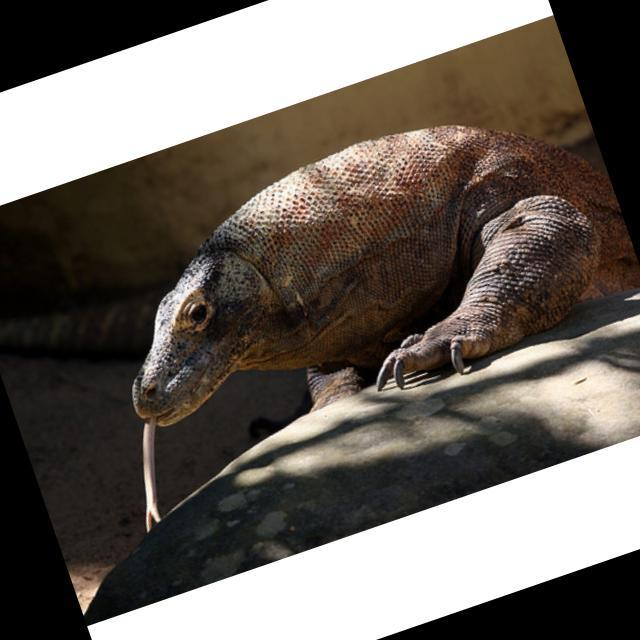KomodoDragon: (49, 66, 640, 533)
